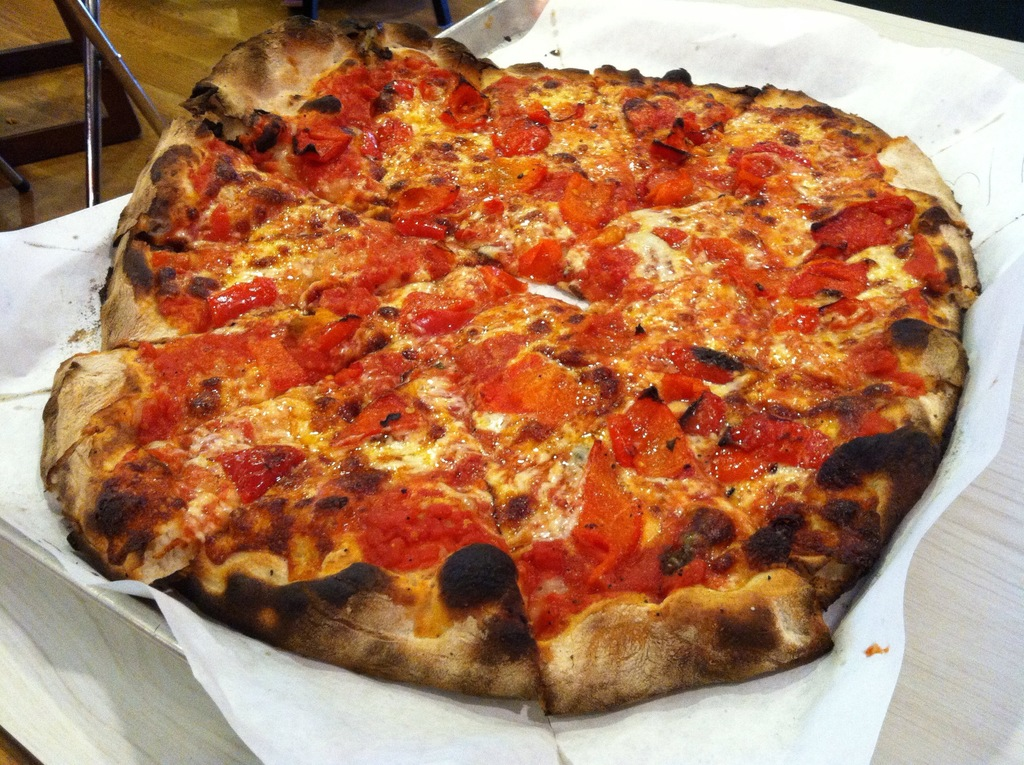Pizza: (45, 14, 984, 718)
